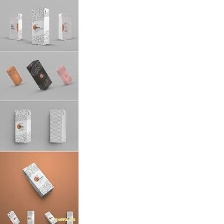carton: (20, 160, 58, 199), (28, 6, 53, 47), (11, 105, 36, 145), (26, 57, 53, 94), (45, 105, 68, 146), (6, 11, 26, 42), (56, 12, 76, 40), (55, 62, 75, 88), (4, 63, 24, 88), (3, 207, 22, 224), (42, 207, 61, 223), (63, 207, 77, 224), (24, 207, 37, 224)
